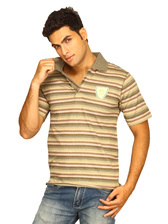clothoes: (30, 57, 156, 194)
